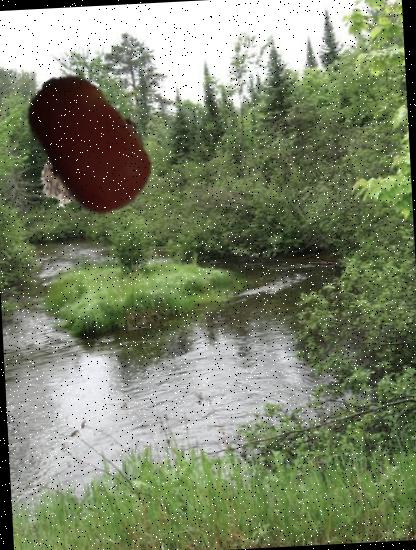Nectarine: (12, 63, 169, 220)
Pineapple: (33, 143, 97, 207)
